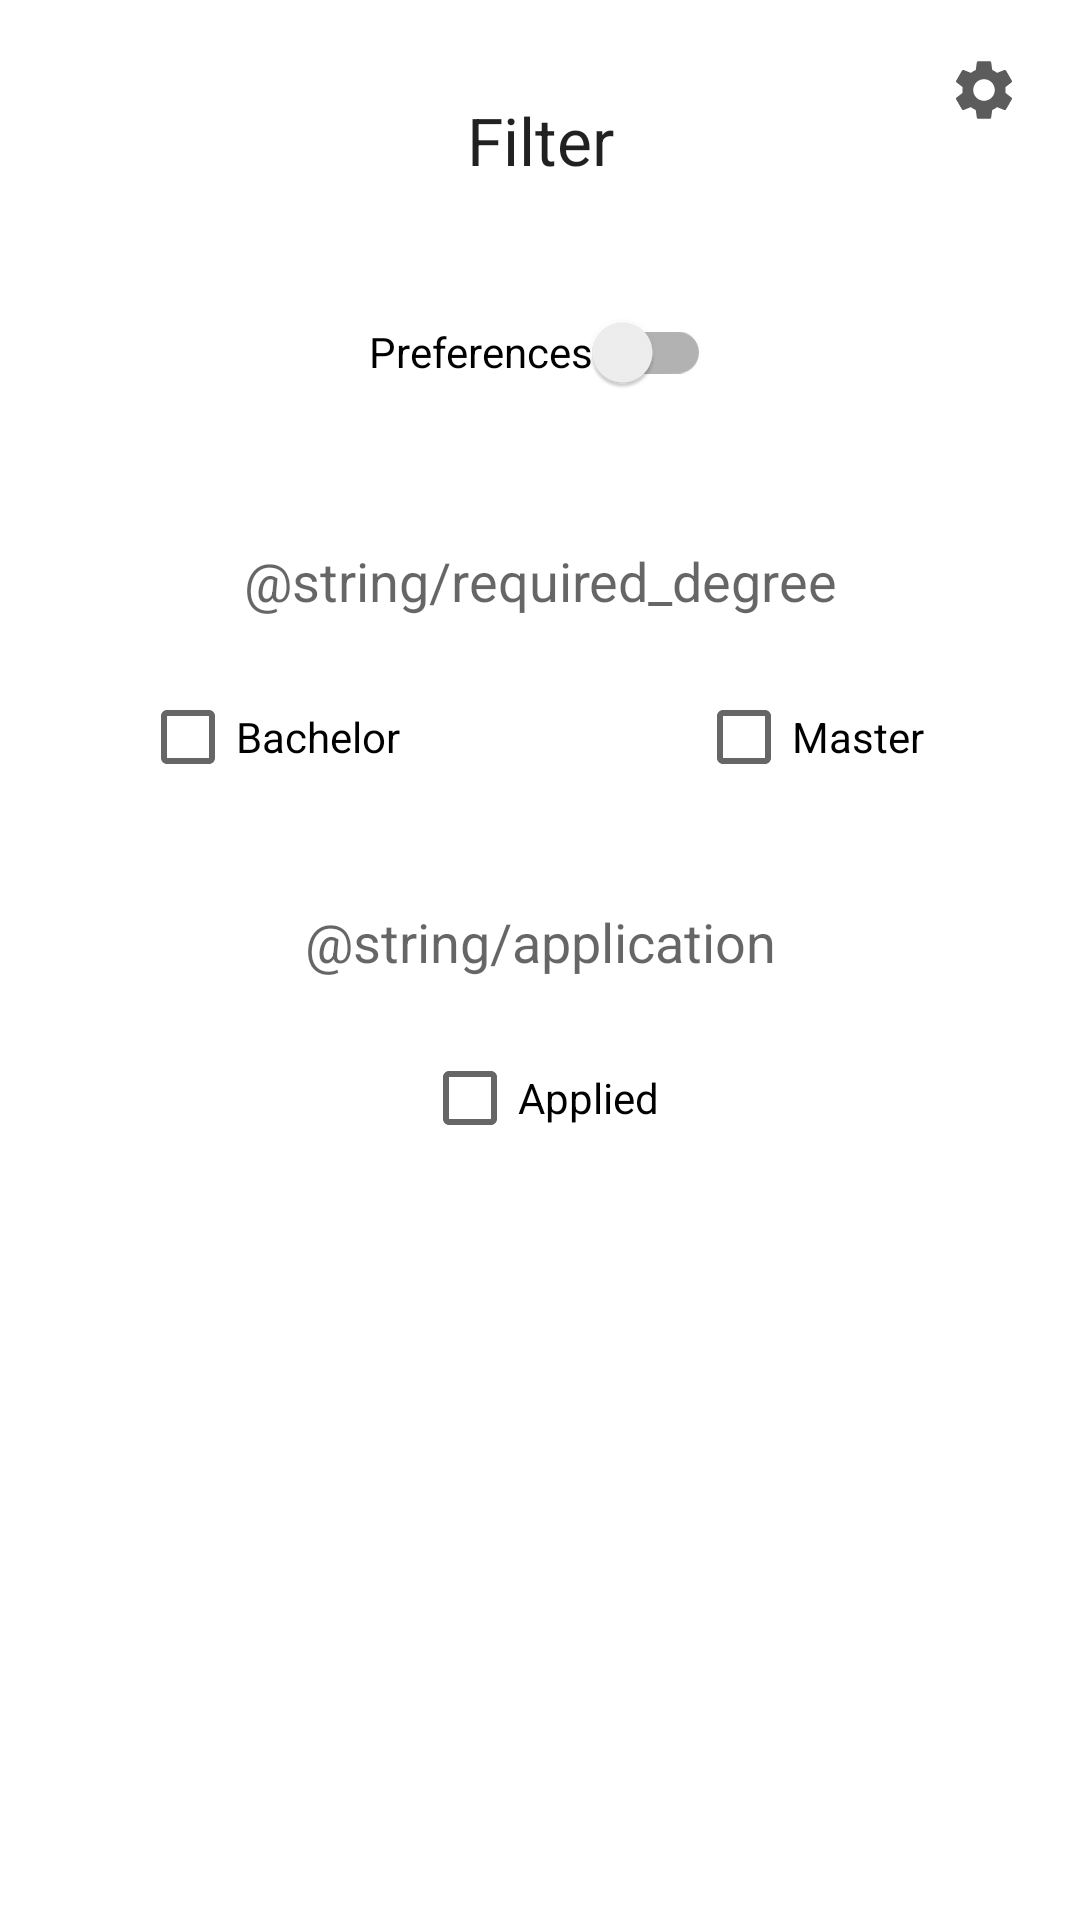

Where icons sit on this 1080×1920 app screen, as {"left": x1, "top": y1, "right": x2, "bottom": y2}:
filter settings icon: {"left": 956, "top": 61, "right": 1012, "bottom": 119}
